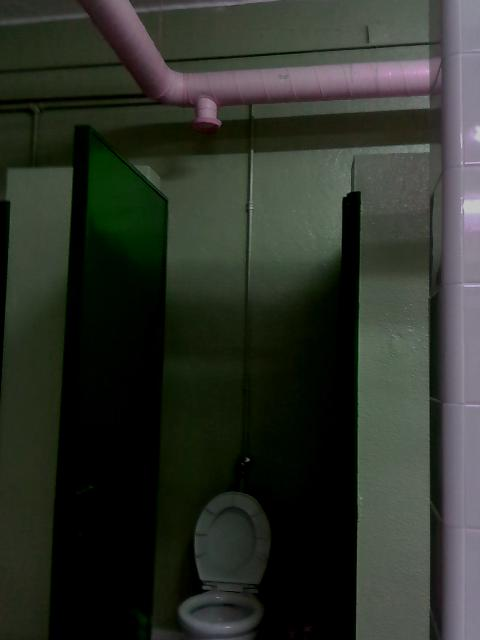open_door: (136, 149, 359, 638)
